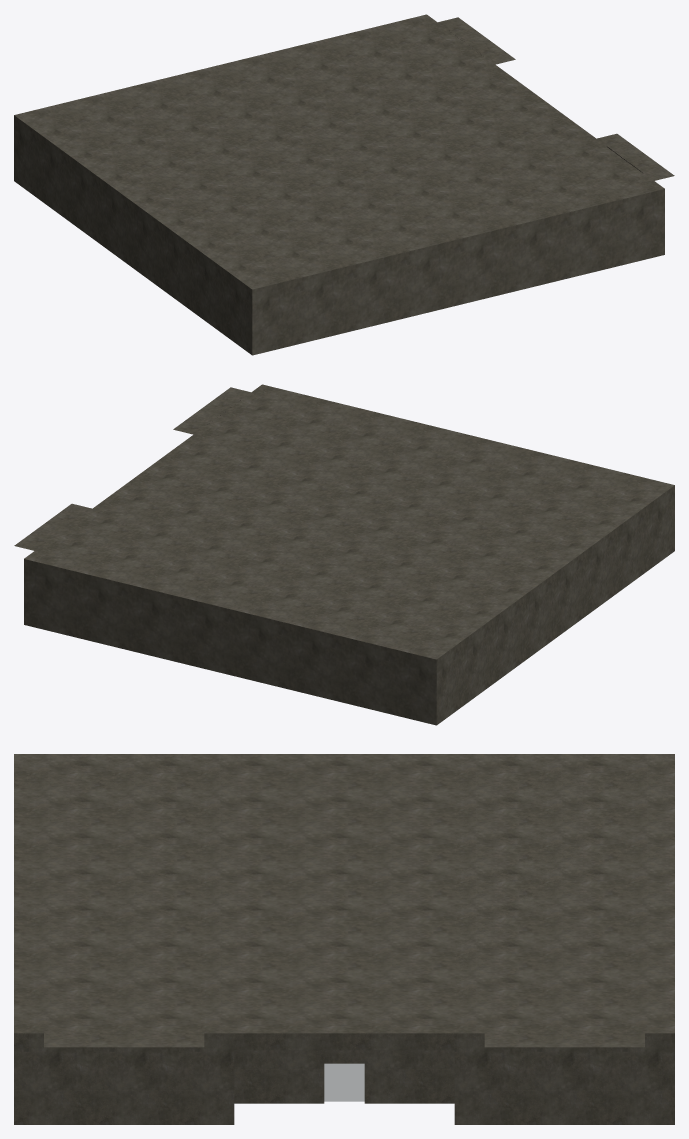
Rendered from Planta Baja.fbx.
The picture shows the model from 3 angles, top to bottom: view 1: azimuth 30°, elevation 25°; view 2: azimuth 150°, elevation 25°; view 3: azimuth 270°, elevation 25°; orthographic projection. The views are drawn at different scales.
Visible parts, largest first — view 1: building_021.001; view 2: building_021.001; view 3: building_021.001.
Part boxes in pixels (x1,y1,x2,y2): building_021.001: [14, 14, 674, 355]; building_021.001: [14, 384, 674, 725]; building_021.001: [14, 754, 674, 1124].
Bounding box in the file's own units: 3150 × 458 × 3000.
2 materials, 2 textured.
